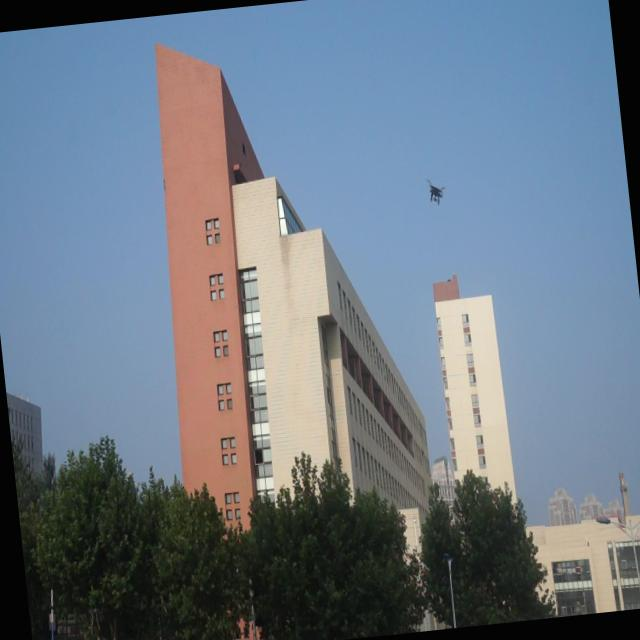drone: (424, 173, 448, 211)
